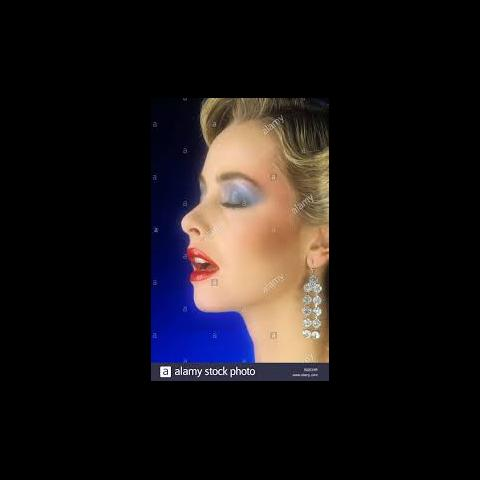closed: (195, 172, 271, 222)
